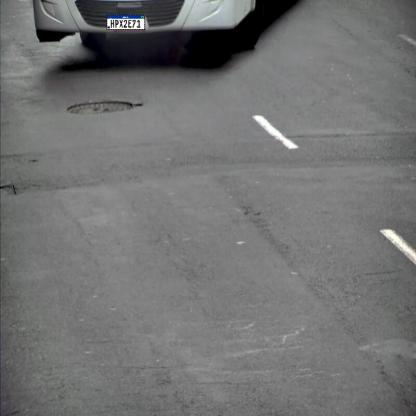PlacaM: (107, 14, 145, 30)
